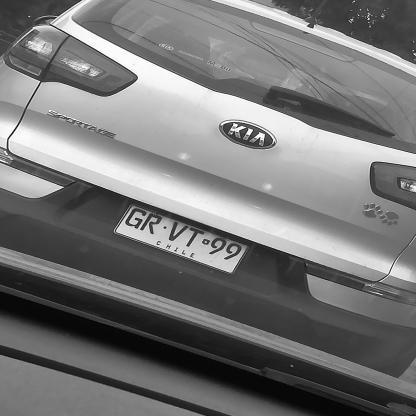Patente: (111, 204, 252, 275)
